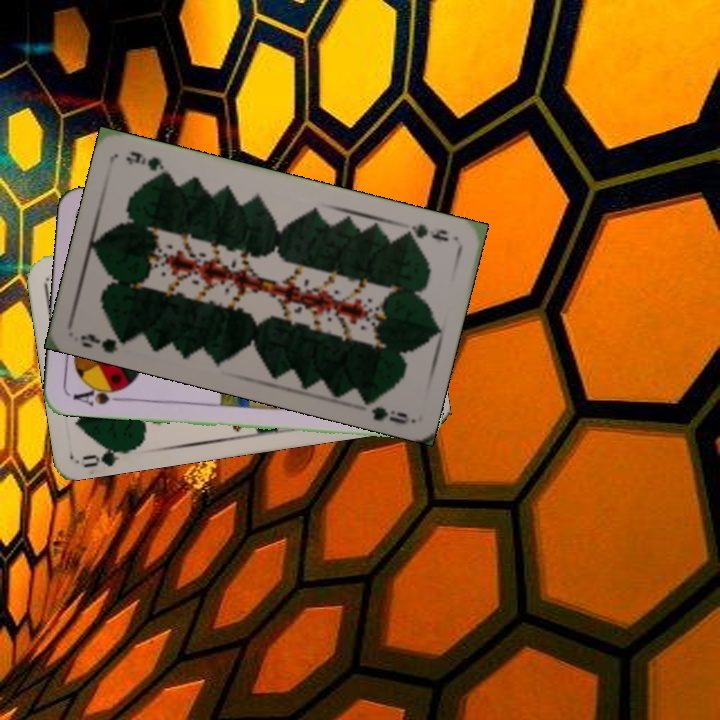G9: (76, 329, 133, 356), (398, 220, 451, 244)
GO: (78, 441, 137, 470)
SA: (69, 381, 128, 409)
